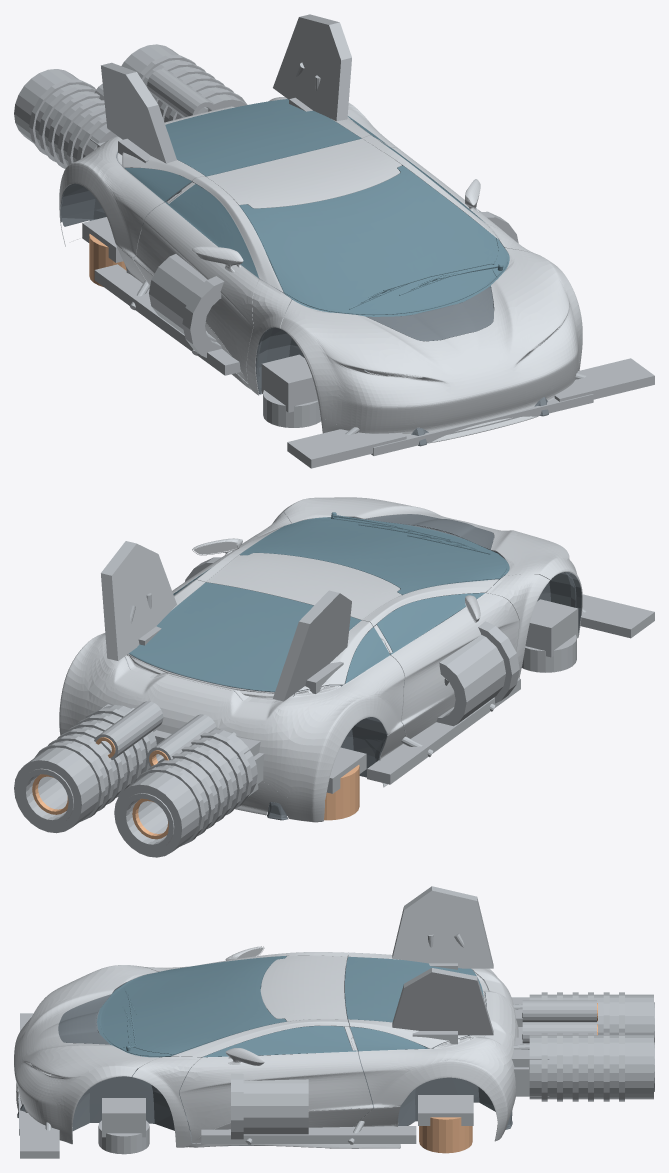
Rendered from preview_industrial.glb.
3 renders of one model, top to bottom at view 1: azimuth 30°, elevation 25°; view 2: azimuth 150°, elevation 25°; view 3: azimuth 270°, elevation 25°, orthographic. The views are drawn at different scales.
Visible parts, largest first — view 1: DONOR_BodyHood, DONOR_BodyWindshield, DONOR_BodyRearwindow, DONOR_BodyRoofPanel, DONOR_BodyRearPanelsColor1, DONOR_BodyDoorRColor1, INSTALLED_rear_fins_2_FIN_1, DONOR_BodyPillars, INSTALLED_rear_fins_2_FIN_-1, INSTALLED_rear_engine_MAIN_-1_HOLLOW_BELL, DONOR_BodyHoodTopgrill, DONOR_BodyDoorRWindow (+19 smaller); view 2: DONOR_BodyRearPanelsColor1, DONOR_BodyRearwindow, DONOR_BodyWindshield, INSTALLED_rear_engine_MAIN_-1_HOLLOW_BELL, DONOR_BodyRoofPanel, INSTALLED_rear_engine_MAIN_1_HOLLOW_BELL, DONOR_BodyDoorRColor1, INSTALLED_rear_fins_2_FIN_1, DONOR_BodyHood, DONOR_BodyPillars, INSTALLED_rear_fins_2_FIN_-1, INSTALLED_side_intakes_2_SIDE_INTAKE_BORE_-1 (+29 smaller); view 3: DONOR_BodyWindshield, DONOR_BodyHood, DONOR_BodyRearPanelsColor1, DONOR_BodyDoorLColor1, INSTALLED_rear_fins_2_FIN_-1, INSTALLED_rear_engine_MAIN_1_HOLLOW_BELL, INSTALLED_rear_fins_2_FIN_1, DONOR_BodyRoofPanel, DONOR_BodyPillars, DONOR_BodyUnderside, DONOR_BodyRearwindow, INSTALLED_side_intakes_2_SIDE_INTAKE_BORE_1 (+22 smaller).
Boxes of the visible parts, bbox=[...] form: DONOR_BodyHood: bbox=[280, 248, 582, 435]; DONOR_BodyWindshield: bbox=[239, 165, 497, 315]; DONOR_BodyRearwindow: bbox=[165, 99, 361, 176]; DONOR_BodyRoofPanel: bbox=[206, 138, 401, 208]; DONOR_BodyRearPanelsColor1: bbox=[59, 97, 398, 257]; DONOR_BodyDoorRColor1: bbox=[133, 202, 258, 382]; INSTALLED_rear_fins_2_FIN_1: bbox=[273, 14, 351, 121]; DONOR_BodyPillars: bbox=[192, 135, 537, 395]; INSTALLED_rear_fins_2_FIN_-1: bbox=[101, 62, 176, 163]; INSTALLED_rear_engine_MAIN_-1_HOLLOW_BELL: bbox=[14, 69, 117, 165]; DONOR_BodyHoodTopgrill: bbox=[366, 286, 493, 341]; DONOR_BodyDoorRWindow: bbox=[169, 184, 258, 276]; DONOR_BodyRearPanelsColor1: bbox=[59, 580, 404, 802]; DONOR_BodyRearwindow: bbox=[129, 582, 361, 691]; DONOR_BodyWindshield: bbox=[239, 519, 506, 594]; INSTALLED_rear_engine_MAIN_-1_HOLLOW_BELL: bbox=[114, 729, 257, 857]; DONOR_BodyRoofPanel: bbox=[206, 553, 401, 620]; INSTALLED_rear_engine_MAIN_1_HOLLOW_BELL: bbox=[14, 705, 156, 833]; DONOR_BodyDoorRColor1: bbox=[390, 593, 519, 724]; INSTALLED_rear_fins_2_FIN_1: bbox=[101, 541, 176, 660]; DONOR_BodyHood: bbox=[281, 497, 582, 615]; DONOR_BodyPillars: bbox=[194, 512, 549, 678]; INSTALLED_rear_fins_2_FIN_-1: bbox=[273, 590, 351, 701]; INSTALLED_side_intakes_2_SIDE_INTAKE_BORE_-1: bbox=[436, 635, 505, 726]; DONOR_BodyWindshield: bbox=[99, 956, 286, 1054]; DONOR_BodyHood: bbox=[14, 965, 158, 1129]; DONOR_BodyRearPanelsColor1: bbox=[348, 952, 518, 1123]; DONOR_BodyDoorLColor1: bbox=[179, 1051, 373, 1142]; INSTALLED_rear_fins_2_FIN_-1: bbox=[392, 886, 493, 968]; INSTALLED_rear_engine_MAIN_1_HOLLOW_BELL: bbox=[529, 1035, 653, 1099]; INSTALLED_rear_fins_2_FIN_1: bbox=[392, 968, 493, 1035]; DONOR_BodyRoofPanel: bbox=[261, 955, 347, 1021]; DONOR_BodyPillars: bbox=[132, 952, 349, 1147]; DONOR_BodyUnderside: bbox=[72, 1075, 512, 1130]; DONOR_BodyRearwindow: bbox=[345, 956, 483, 1035]; INSTALLED_side_intakes_2_SIDE_INTAKE_BORE_1: bbox=[243, 1079, 308, 1134].
Bounding box in the file's own units: 2.81 × 1.63 × 5.52.
